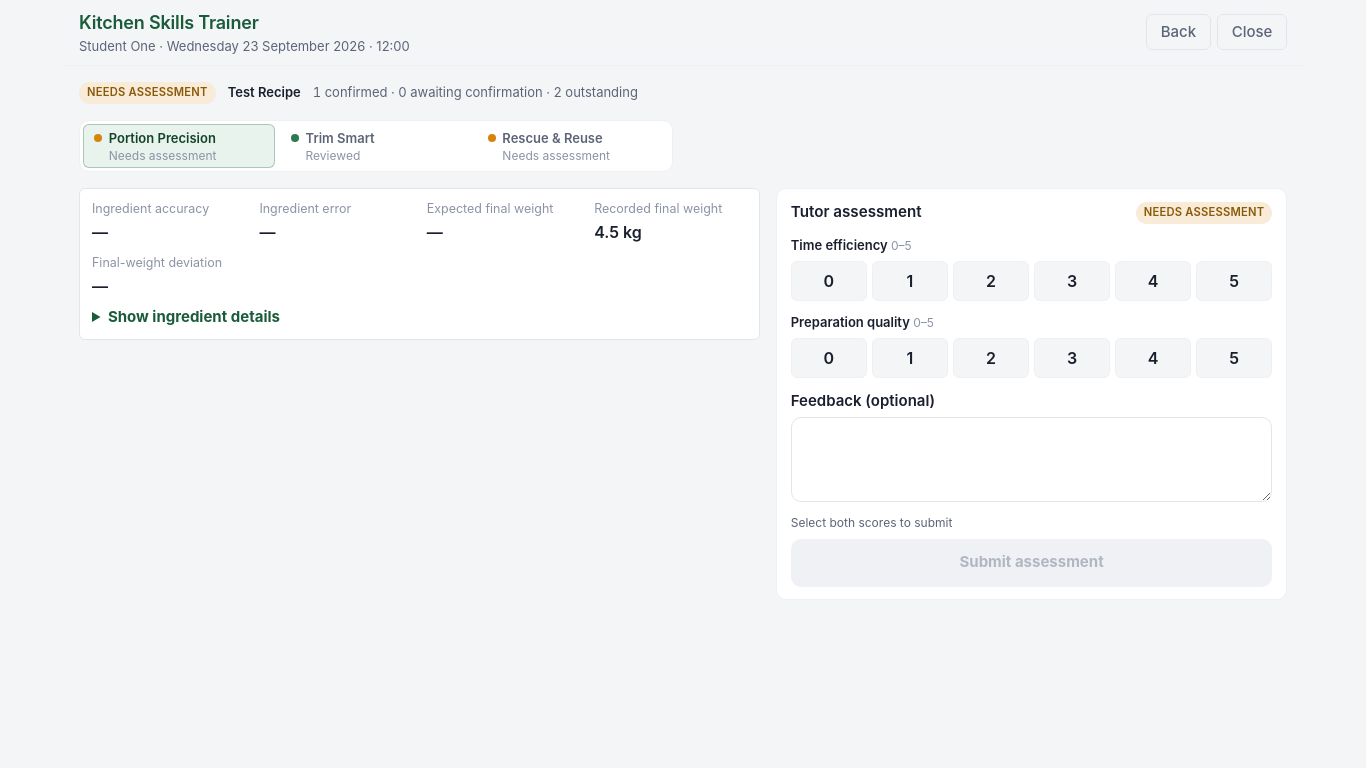
Test case: Kitchen Day module chef review › leaves Rescue open for assessment after a Trim review
The image size is (1366, 768).
Click the tab with test id "kitchen-day-tutor-module-tab-trimSmart". click: (376, 146)
box: [280,124,472,168]
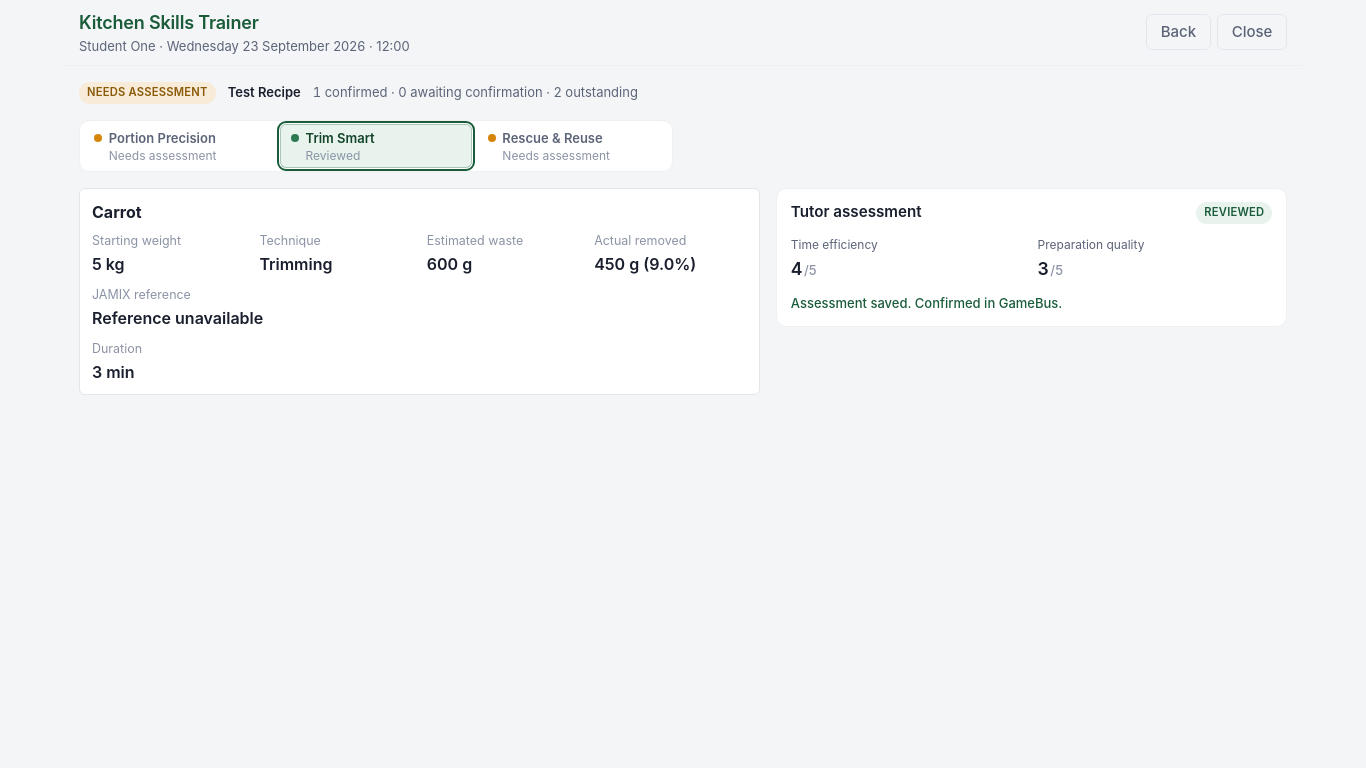
Click the tab with test id "kitchen-day-tutor-module-tab-rescueAndReuse". click: (573, 146)
box: [477,124,669,168]
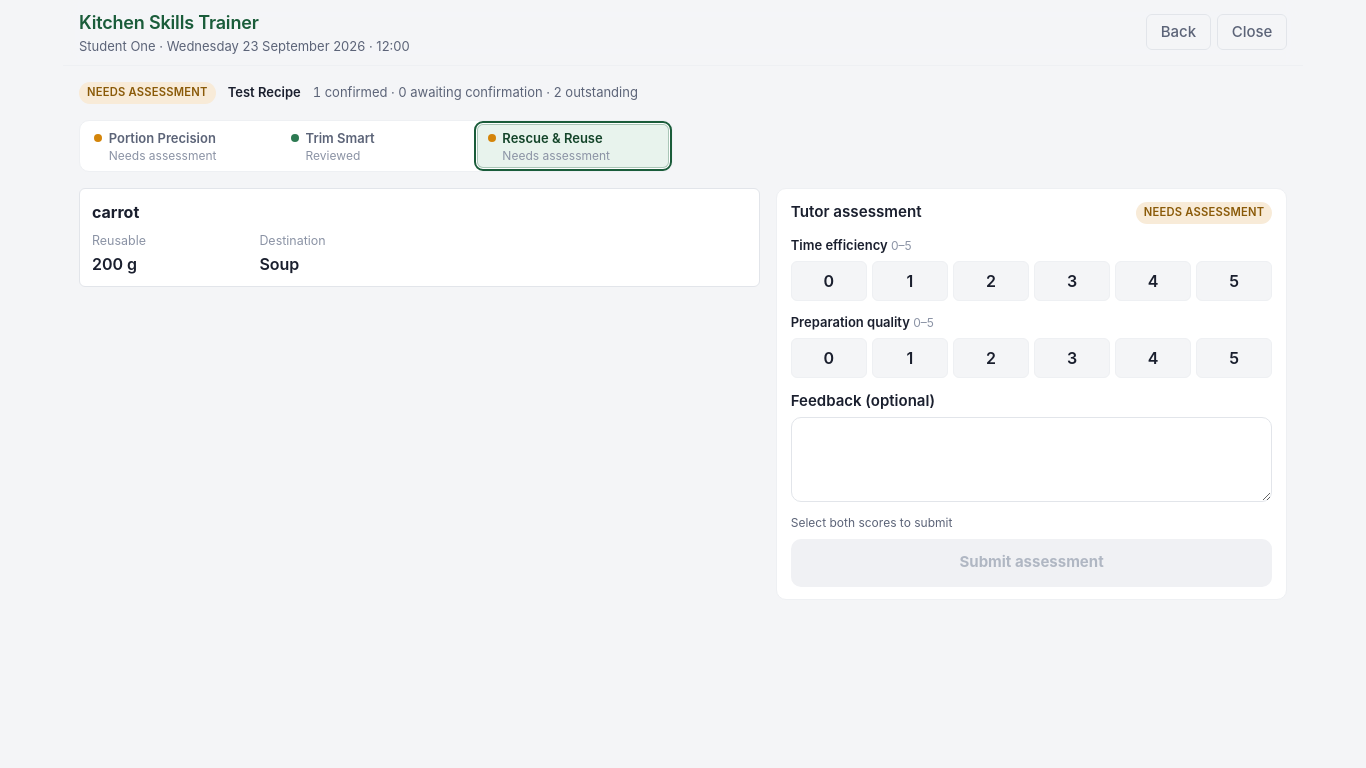
Now the element with test id "kitchen-day-review-rescueAndReuse-form" is shown, box [776,188,1287,600]
